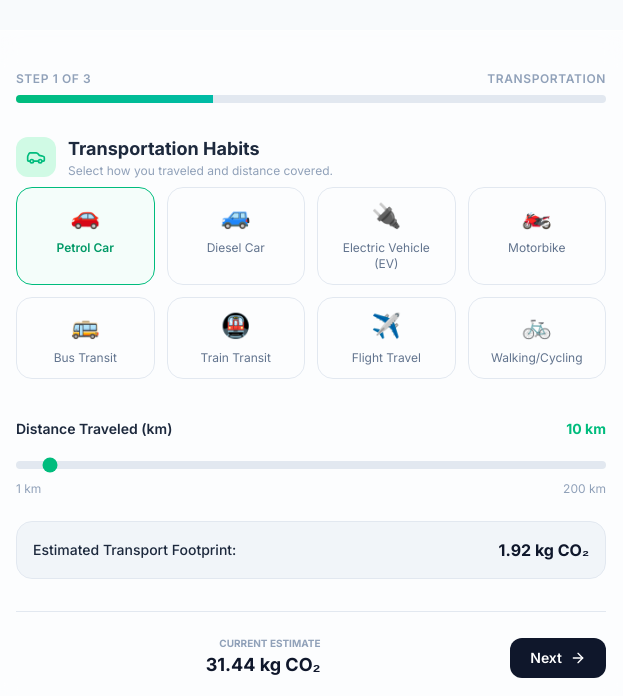
Calculator Wizard Page › navigates through the wizard steps
This screenshot has width=623, height=696.
(page scrolled)
Click the button "Next" at (558, 658), box [510,638,606,678]
(page scrolled)
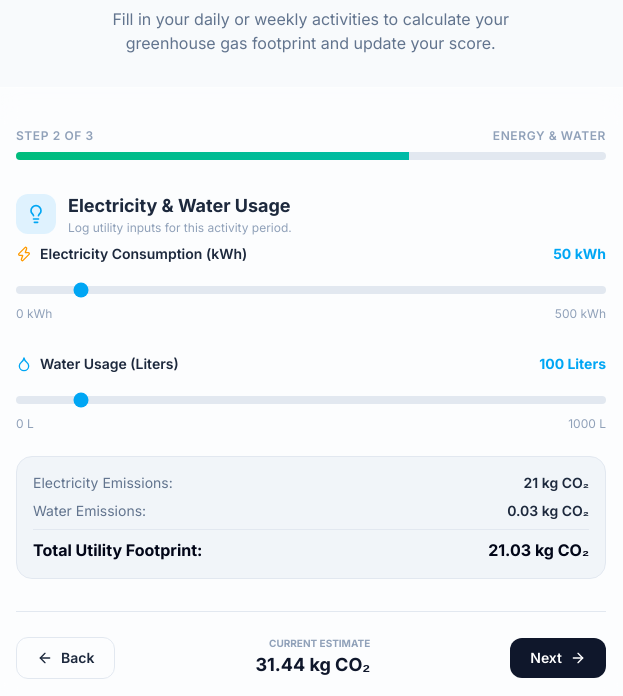
Check: the text "Step 2 of 3" is shown, box [16,128,94,144]
Check: the heading "Electricity & Water Usage" is shown, box [68,192,292,220]
Click the button "Back" at (66, 658), box [16,636,115,678]
(page scrolled)
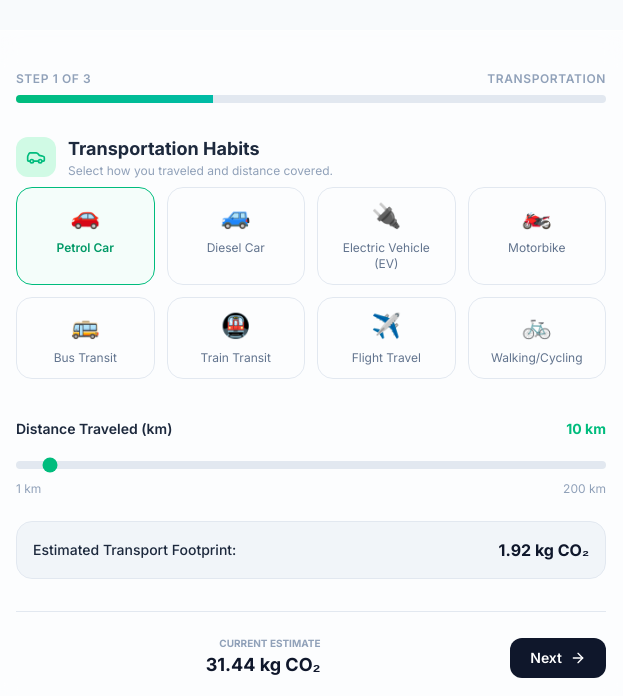
Check: the text "Step 1 of 3" is shown, box [16,71,91,87]
